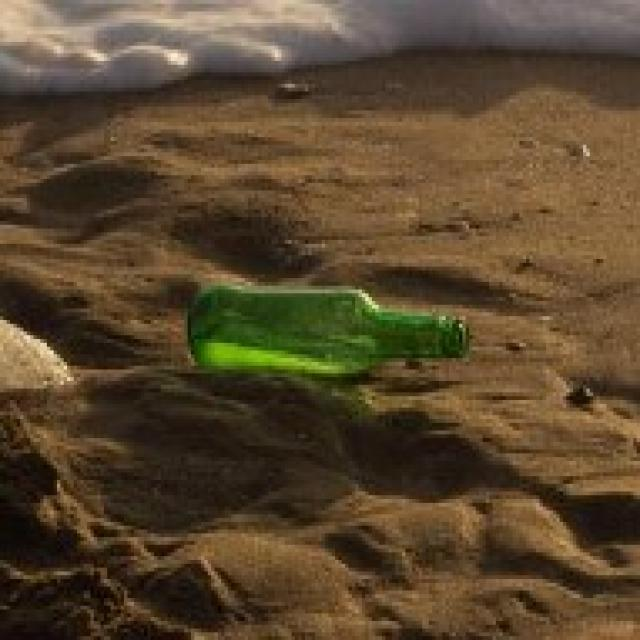electronic: (185, 277, 475, 392)
